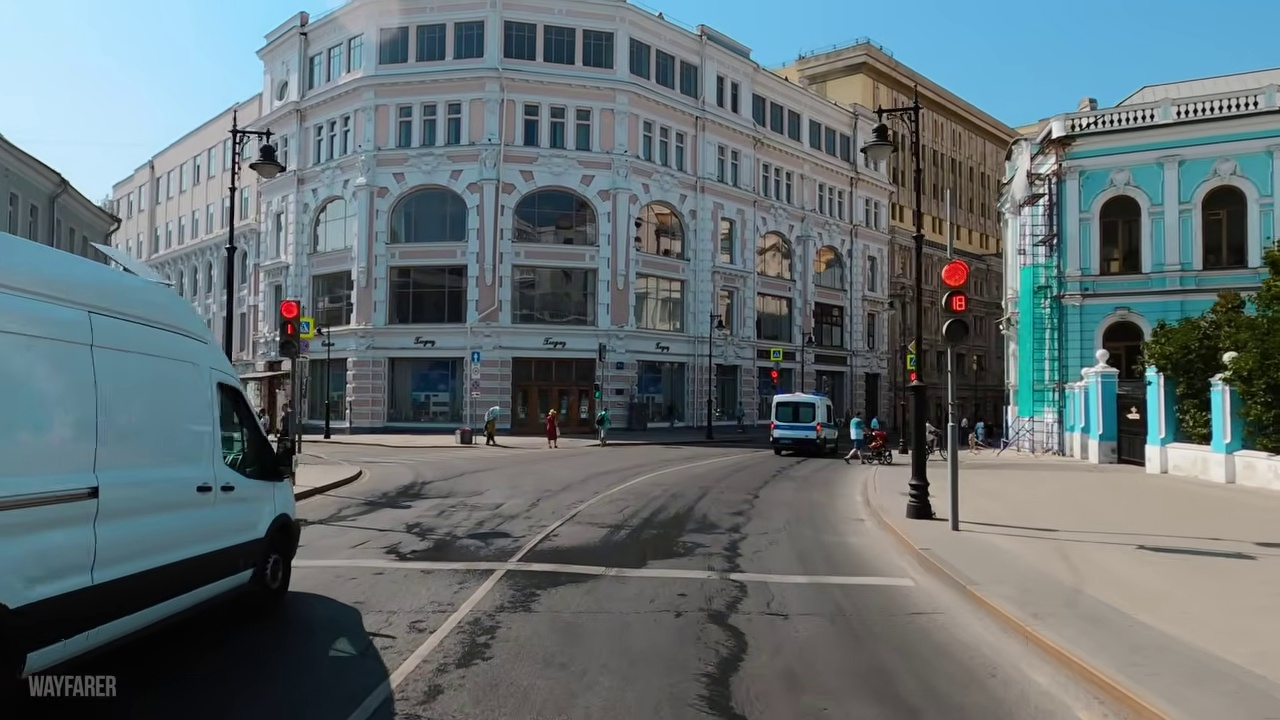apagada: (246, 143, 281, 180), (865, 133, 892, 166)
